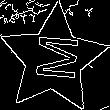M_W: (27, 34, 80, 85)
